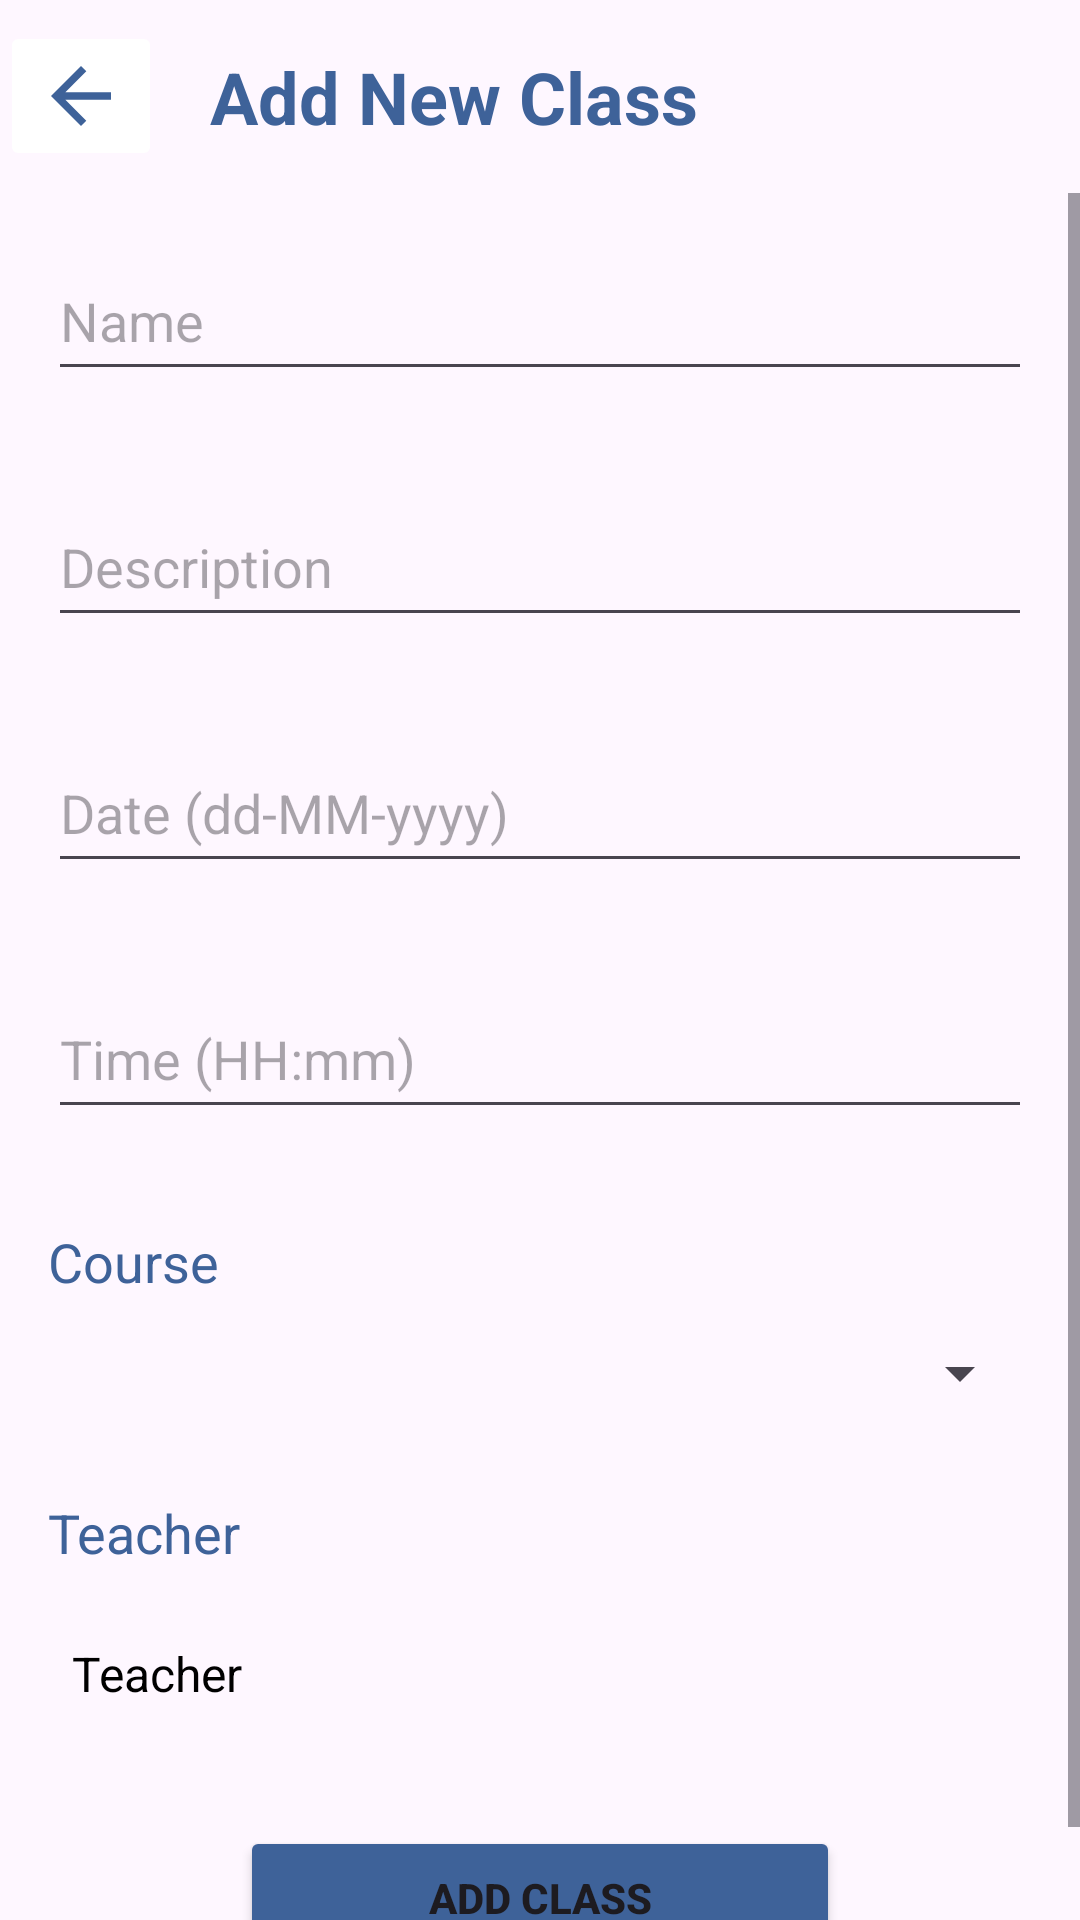

Icons on this 1080x1920 Android screen, each with the point to tap as point (x, y):
Back: point (81, 96)
